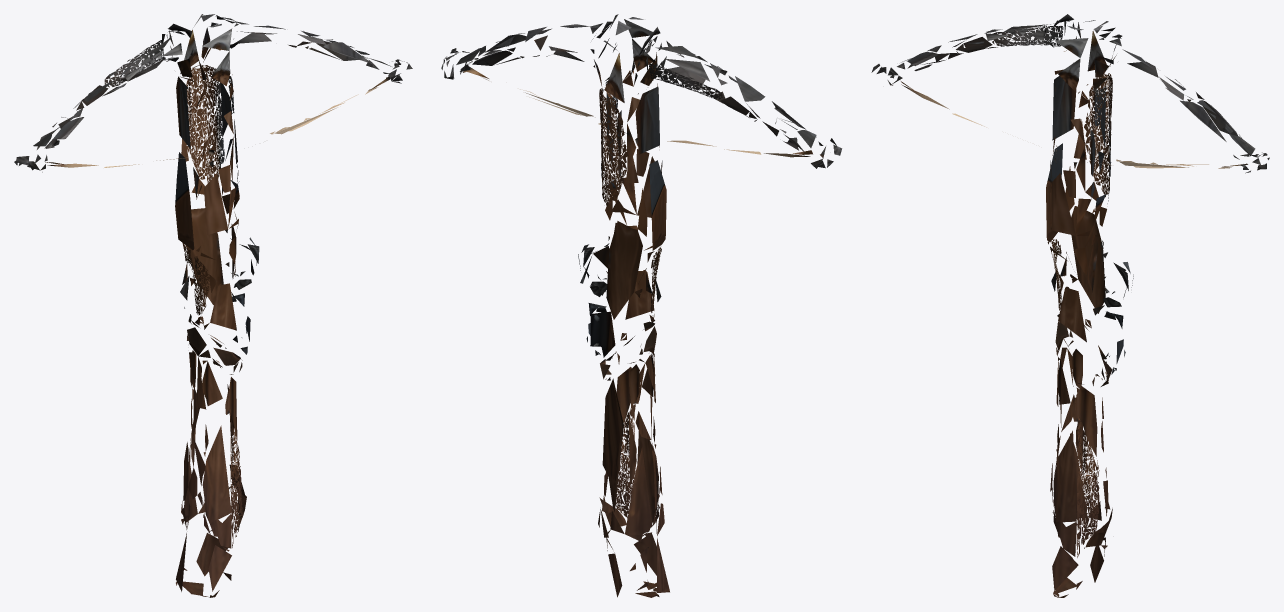
The model's file is crossbow.glb.
3 renders of one model, left to right at view 1: azimuth 30°, elevation 25°; view 2: azimuth 150°, elevation 25°; view 3: azimuth 330°, elevation 25°, orthographic.
Visible parts, largest first — view 1: node_0; view 2: node_0; view 3: node_0.
Part boxes in pixels (bbox=[...]): node_0: bbox=[14, 14, 412, 597]; node_0: bbox=[441, 14, 842, 597]; node_0: bbox=[871, 14, 1269, 597].
Size of the model in its own units: 0.5735 by 0.7969 by 0.0914.
1 material, 1 textured.
